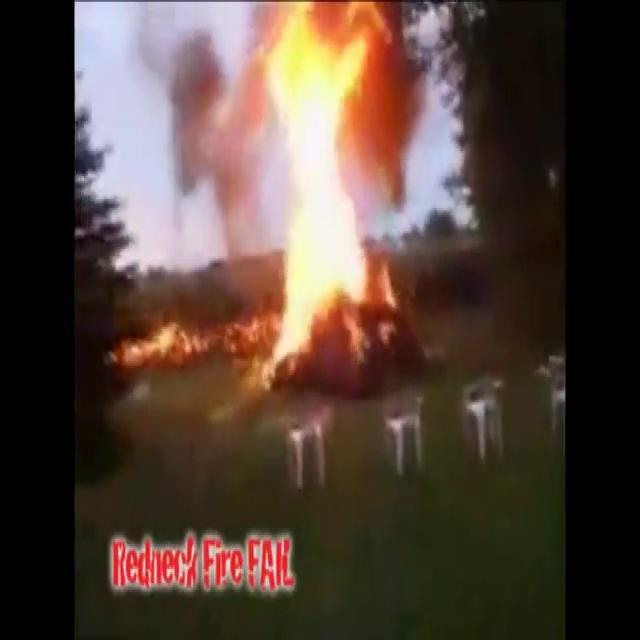Fire: (254, 0, 396, 370), (113, 318, 212, 368)
Smoke: (74, 2, 267, 254)
